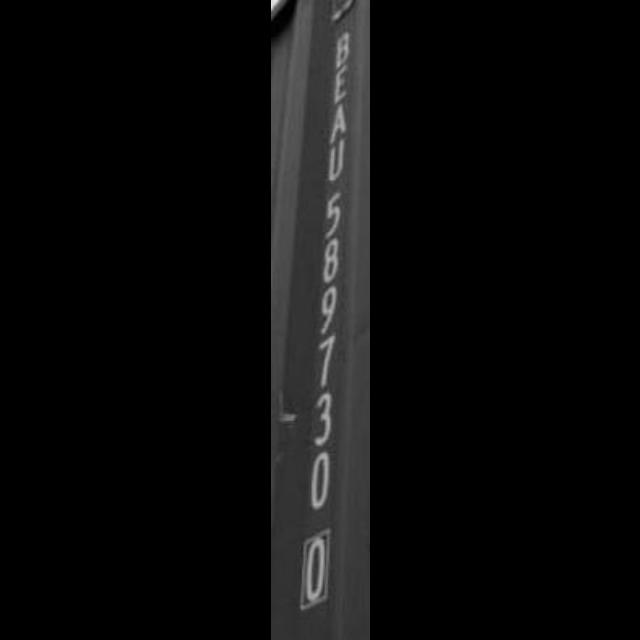0: (296, 526, 332, 612), (302, 446, 336, 510)
3: (308, 388, 340, 456)
5: (322, 190, 346, 234)
7: (310, 331, 342, 387)
8: (316, 235, 348, 283)
9: (316, 282, 344, 334)
a: (325, 101, 355, 142)
b: (332, 24, 356, 66)
e: (328, 62, 356, 105)
u: (325, 139, 351, 187)
